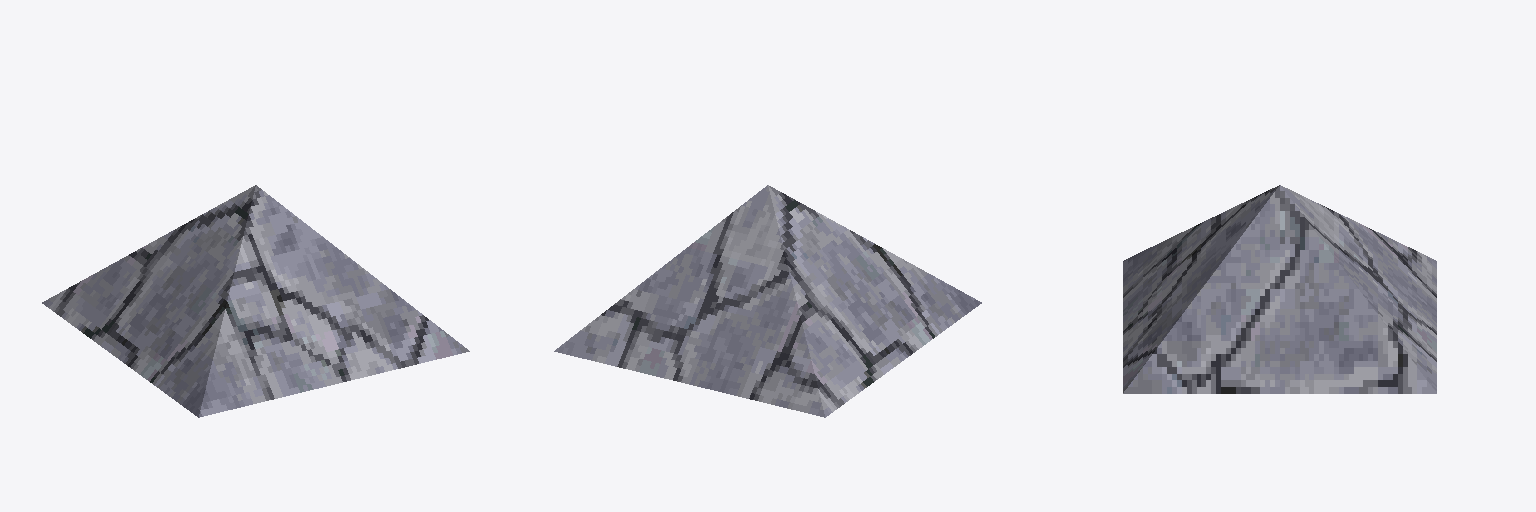
The picture shows the model from 3 angles: view 1: azimuth 30°, elevation 25°; view 2: azimuth 150°, elevation 25°; view 3: azimuth 270°, elevation 25°; orthographic projection.
Visible parts, largest first — view 1: RockTriangle; view 2: RockTriangle; view 3: RockTriangle.
Part boxes in pixels (left/top/right/bottom): RockTriangle: left=42, top=185, right=469, bottom=417; RockTriangle: left=554, top=185, right=981, bottom=417; RockTriangle: left=1123, top=185, right=1436, bottom=393.
Size of the model in its own units: 25 by 12.5 by 25.
Materials: 1 (1 with a texture image).